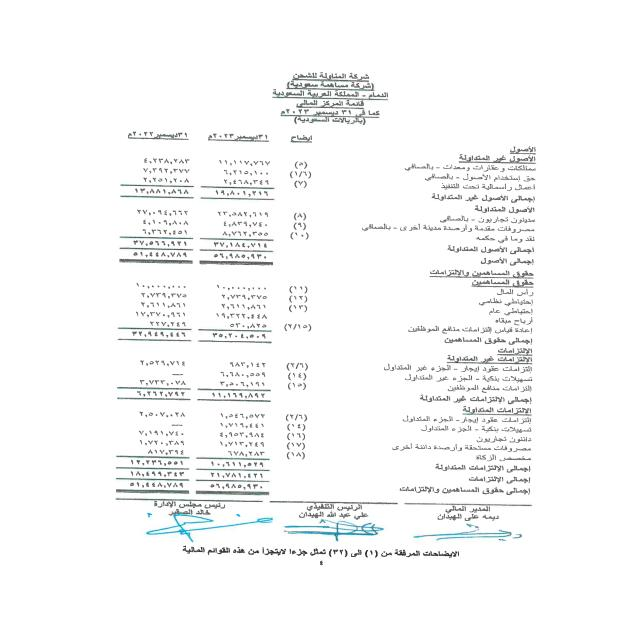financial_sheets: (293, 99, 367, 109)
table: (87, 128, 320, 504)
